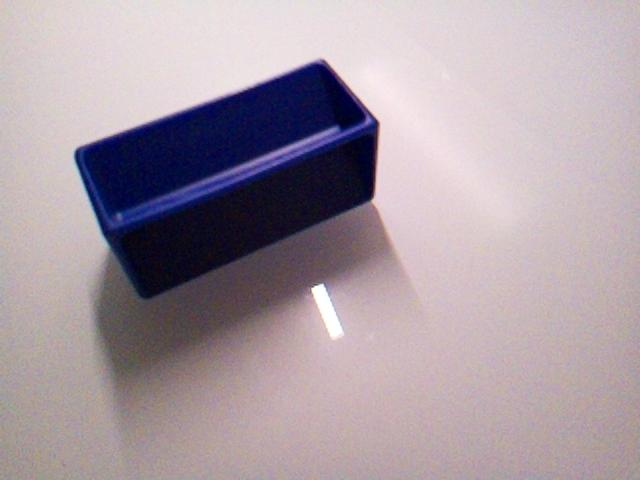blue: (73, 57, 381, 300)
